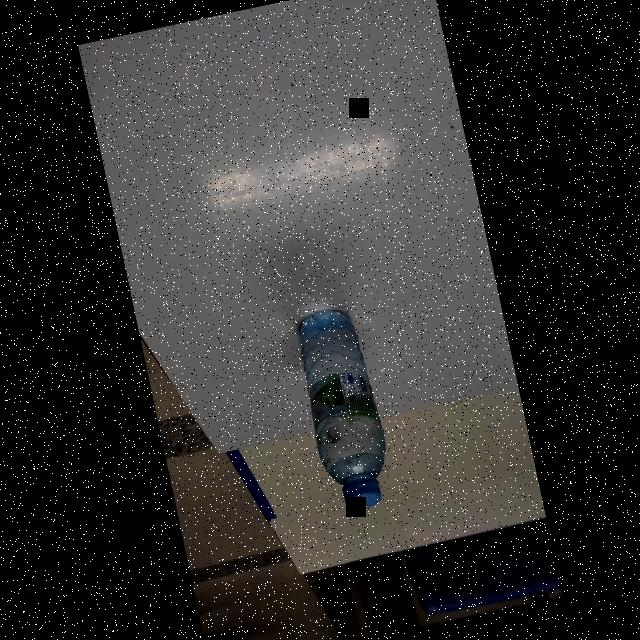plastic_bottle: (287, 302, 399, 518)
